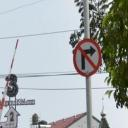NoVirarDireita: (72, 38, 102, 78)
